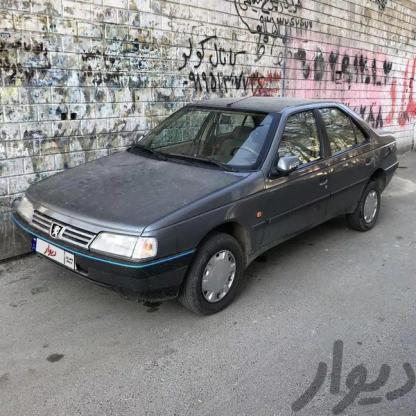Car: (0, 90, 406, 301)
